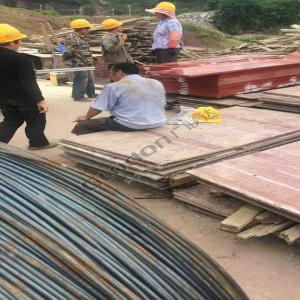none: (108, 61, 143, 83)
yellow: (1, 23, 25, 55), (101, 17, 127, 37), (154, 3, 179, 22), (69, 19, 94, 37)
